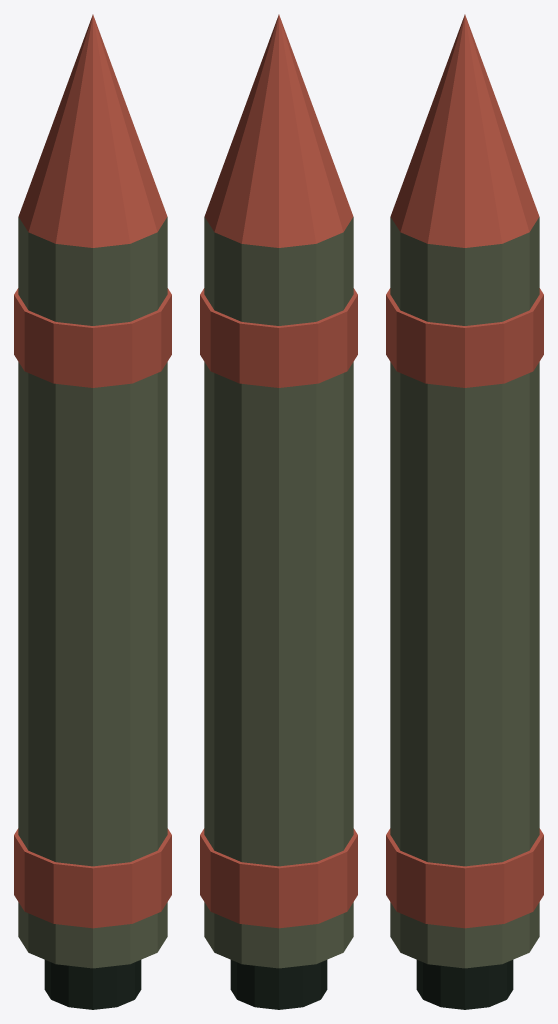
File: projectile_enemy_bullet.obj
The picture shows the model from 3 angles, left to right: view 1: azimuth 30°, elevation 25°; view 2: azimuth 150°, elevation 25°; view 3: azimuth 270°, elevation 25°; orthographic projection.
Visible parts, largest first — view 1: projectile_enemy_bullet; view 2: projectile_enemy_bullet; view 3: projectile_enemy_bullet.
Boxes of the visible parts, box(x1,y1,x2,y2) form: projectile_enemy_bullet: box(14, 14, 171, 1009); projectile_enemy_bullet: box(200, 14, 357, 1009); projectile_enemy_bullet: box(386, 14, 543, 1009).
Size of the model in its own units: 0.0954 by 0.65 by 0.0954.
Materials: 1 (1 with a texture image).
